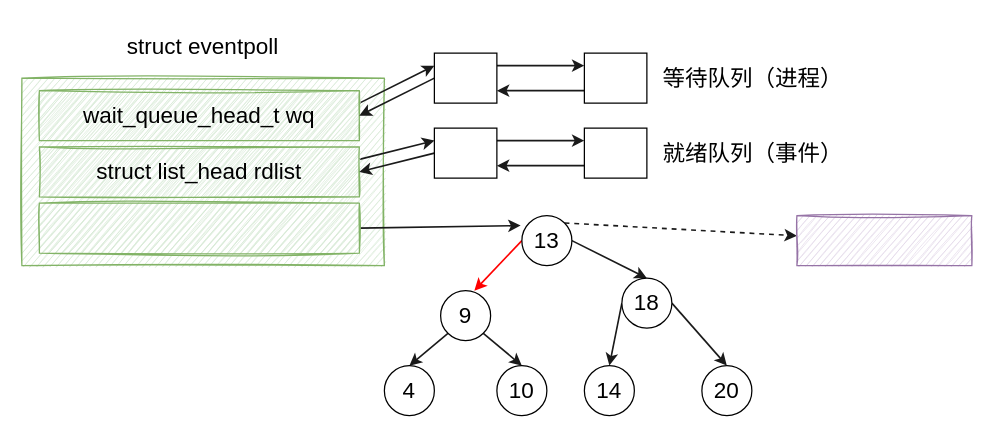
Image size: 994x438. Some labels were removed from this diagram. The centre of each missing label's shape, as x and y in pixels:
struct epitem: point 884,240
struct rb_root rbr: point 198,227
